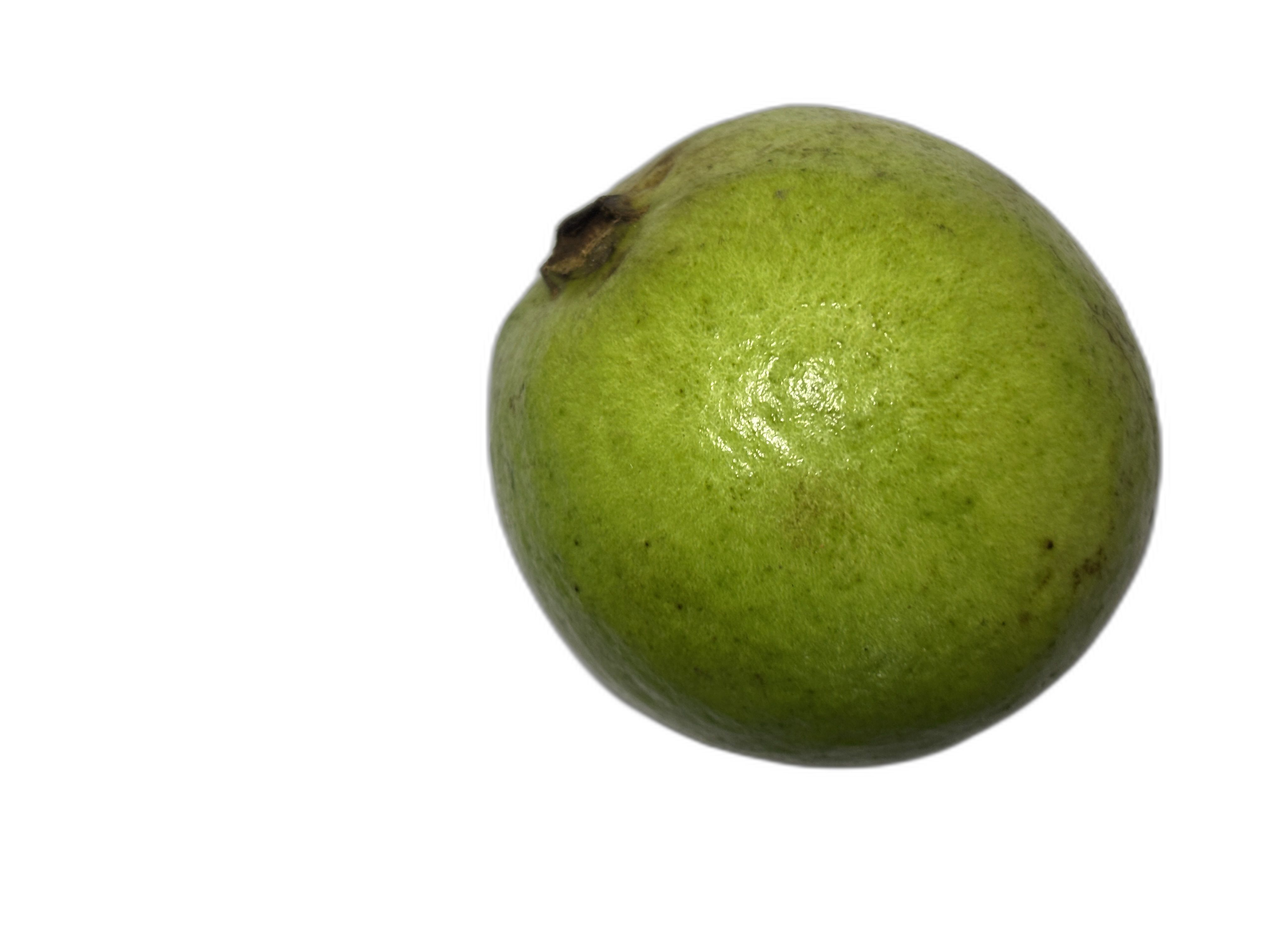guava: (152, 158, 962, 797)
